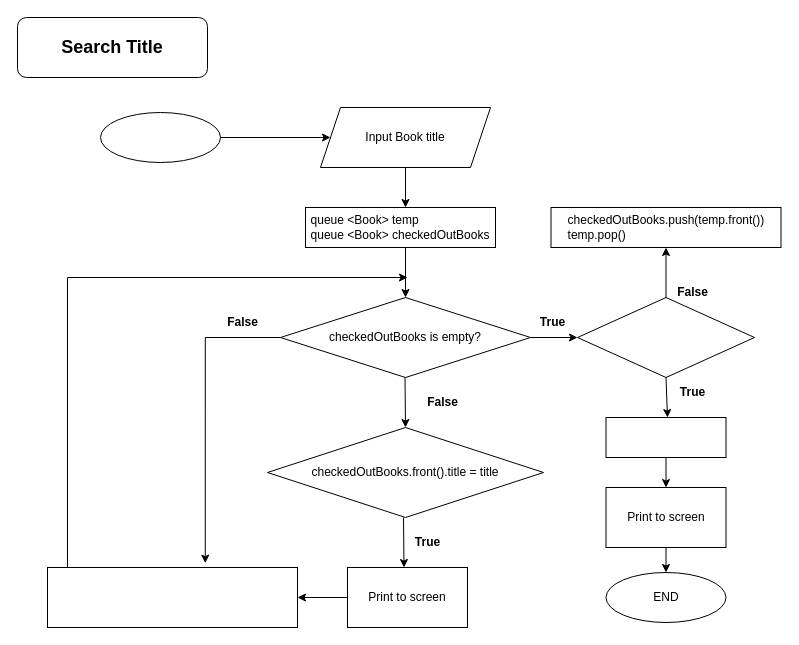
The diagram is 799 pixels wide and 645 high, and some of its shapes have lost their labels. Each missing label, with the centre of its shape:
Search through available books: point 665,437
START: point 160,137
temp is empty?: point 665,337
temp.push(checkedOutBooks.front()) checkedOutBooks.pop(): point 172,597
